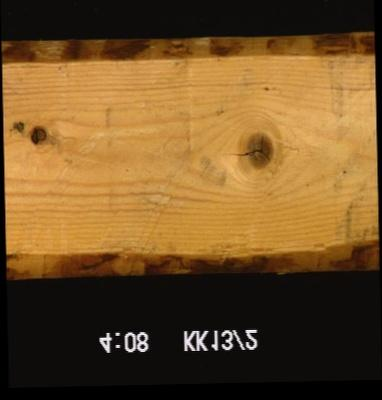sound_knot: (240, 128, 276, 172)
wave: (5, 236, 378, 273), (1, 36, 374, 70)
